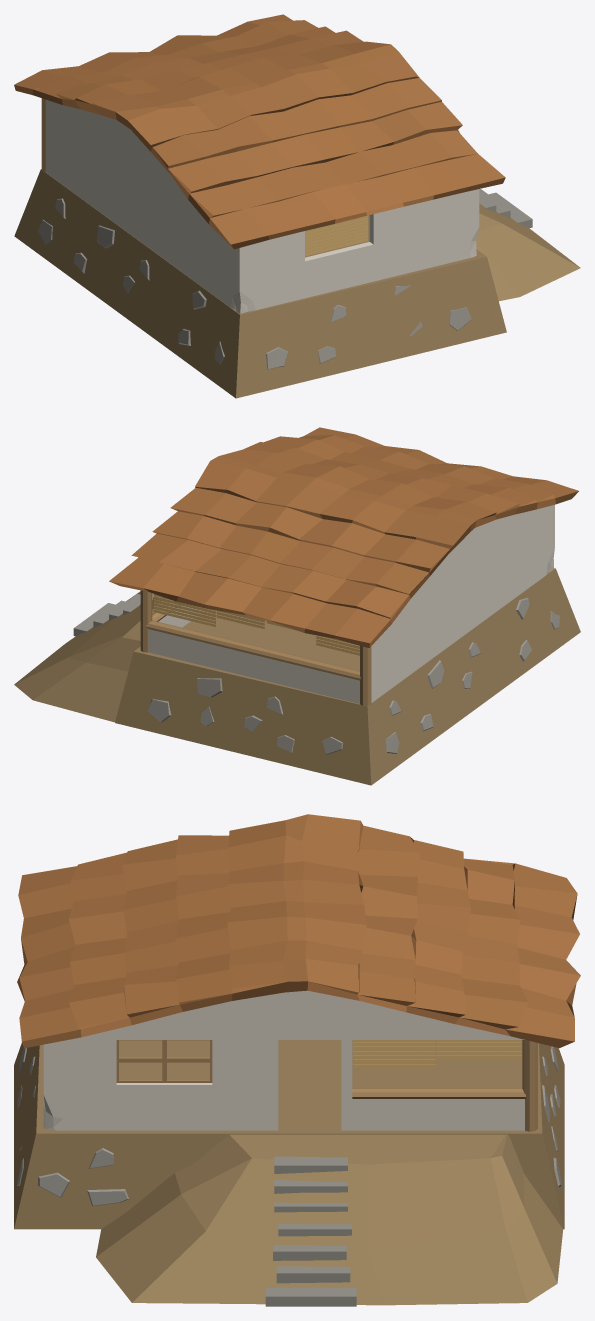
Rendered from house_7.fbx.
The picture shows the model from 3 angles, top to bottom: view 1: azimuth 30°, elevation 25°; view 2: azimuth 150°, elevation 25°; view 3: azimuth 270°, elevation 25°; orthographic projection. The views are drawn at different scales.
Visible parts, largest first — view 1: house_7; view 2: house_7; view 3: house_7.
Part boxes in pixels (bbox=[...]): house_7: bbox=[14, 14, 580, 398]; house_7: bbox=[14, 427, 580, 785]; house_7: bbox=[14, 814, 580, 1306].
Bounding box in the file's own units: 1175 × 565 × 1154.
